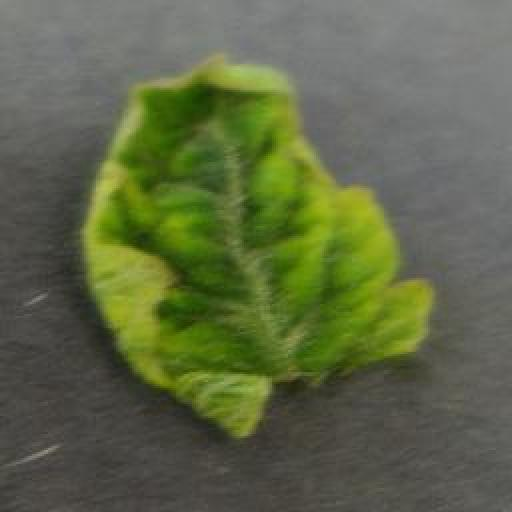Yellow Leaf Curl Virus: (80, 48, 436, 443)
